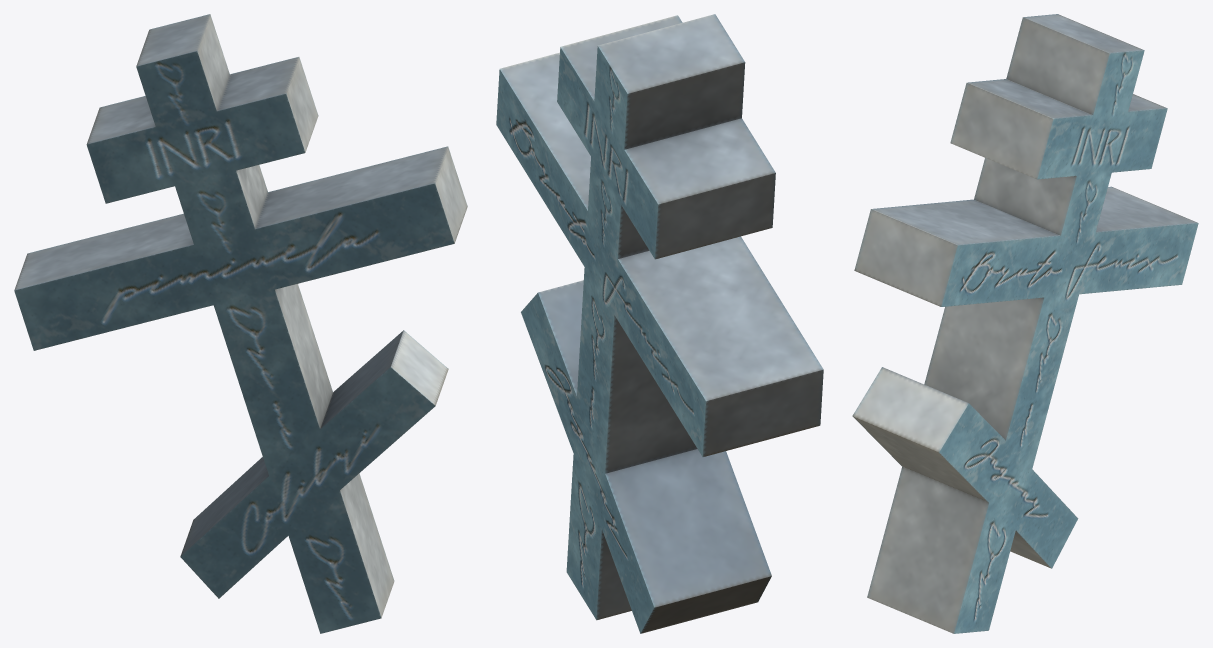
3 renders of one model, left to right at view 1: azimuth 30°, elevation 25°; view 2: azimuth 150°, elevation 25°; view 3: azimuth 270°, elevation 25°, orthographic. The views are drawn at different scales.
Parts seen in each view (by area): view 1: Cruz_Orto_Cube.011; view 2: Cruz_Orto_Cube.011; view 3: Cruz_Orto_Cube.011.
Boxes of the visible parts, x1=… form: Cruz_Orto_Cube.011: x1=14, y1=14, x2=467, y2=633; Cruz_Orto_Cube.011: x1=496, y1=14, x2=823, y2=633; Cruz_Orto_Cube.011: x1=852, y1=14, x2=1198, y2=633.
Bounding box in the file's own units: 1.84 × 2.69 × 1.52.
